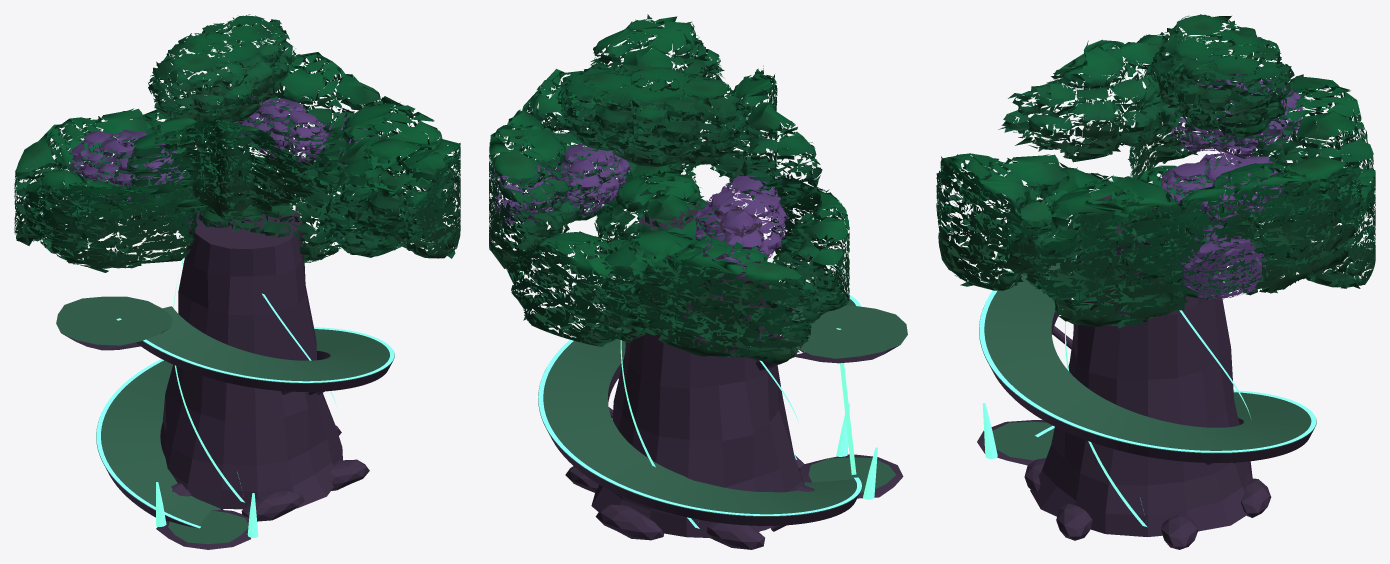
File: Pandora_Hometree.glb
3 renders of one model, left to right at view 1: azimuth 30°, elevation 25°; view 2: azimuth 150°, elevation 25°; view 3: azimuth 270°, elevation 25°, orthographic. The views are drawn at different scales.
Parts seen in each view (by area): view 1: Hometree_Crown, Hometree_Trunk, Hometree_Ramp, Hometree_CrownAccent, Hometree_Junction, Hometree_Glow, Hometree_EntranceApron, Hometree_EntranceGlow; view 2: Hometree_Crown, Hometree_Trunk, Hometree_Ramp, Hometree_CrownAccent, Hometree_Junction, Hometree_Glow, Hometree_EntranceApron, Hometree_EntranceGlow; view 3: Hometree_Crown, Hometree_Trunk, Hometree_Ramp, Hometree_CrownAccent, Hometree_Glow, Hometree_EntranceApron.
Boxes of the visible parts, <box> form: Hometree_Crown: <box>14,14,460,272</box>; Hometree_Trunk: <box>160,201,369,521</box>; Hometree_Ramp: <box>96,306,394,527</box>; Hometree_CrownAccent: <box>69,95,379,202</box>; Hometree_Junction: <box>56,296,172,350</box>; Hometree_Glow: <box>96,260,394,528</box>; Hometree_EntranceApron: <box>156,509,250,549</box>; Hometree_EntranceGlow: <box>156,482,258,537</box>; Hometree_Crown: <box>489,14,849,364</box>; Hometree_Trunk: <box>565,203,814,549</box>; Hometree_Ramp: <box>538,282,862,531</box>; Hometree_CrownAccent: <box>492,144,789,278</box>; Hometree_Junction: <box>755,305,907,370</box>; Hometree_Glow: <box>538,280,861,528</box>; Hometree_EntranceApron: <box>799,454,903,498</box>; Hometree_EntranceGlow: <box>836,403,877,499</box>; Hometree_Crown: <box>936,14,1375,328</box>; Hometree_Trunk: <box>1024,192,1271,549</box>; Hometree_Ramp: <box>979,256,1316,464</box>; Hometree_CrownAccent: <box>1161,74,1305,299</box>; Hometree_Glow: <box>979,255,1316,527</box>; Hometree_EntranceApron: <box>977,420,1052,465</box>.
Bounding box in the file's own units: 14.33 × 16.81 × 13.93.
5 materials, 1 textured.
